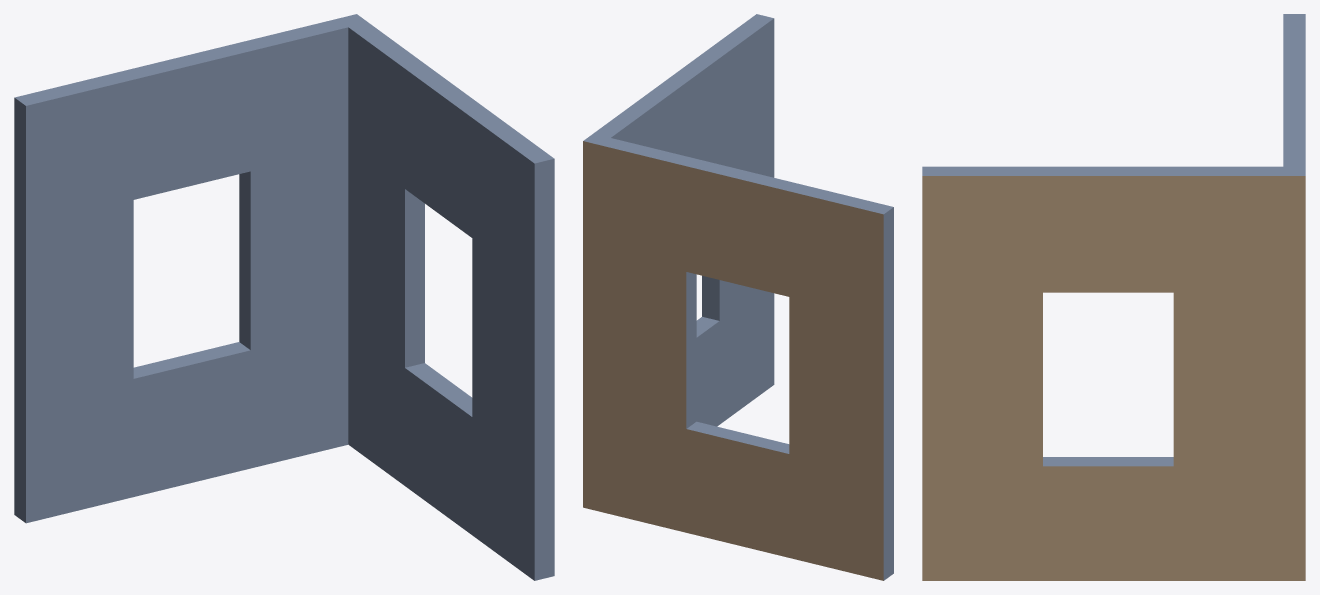
Rendered from Wall2_C3_09.fbx.
3 renders of one model, left to right at view 1: azimuth 30°, elevation 25°; view 2: azimuth 150°, elevation 25°; view 3: azimuth 270°, elevation 25°, orthographic. The views are drawn at different scales.
Parts seen in each view (by area): view 1: Wall2_C3_09; view 2: Wall2_C3_09; view 3: Wall2_C3_09.
Boxes of the visible parts, left/top/right/bottom form: Wall2_C3_09: left=14, top=14, right=554, bottom=580; Wall2_C3_09: left=583, top=14, right=893, bottom=580; Wall2_C3_09: left=922, top=14, right=1305, bottom=580.
Size of the model in its own units: 258 by 300 by 258.
